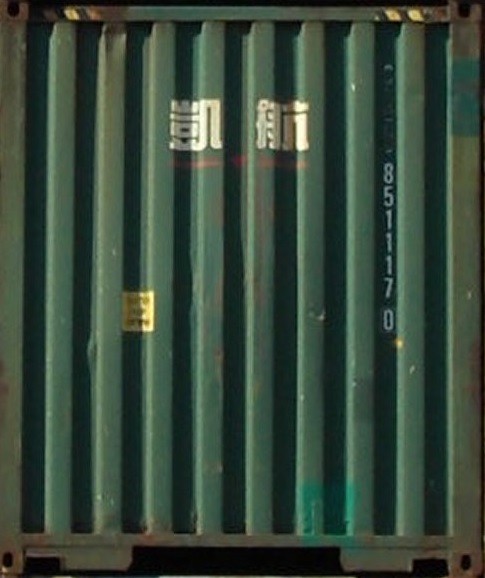container_no_door: (1, 1, 478, 573)
